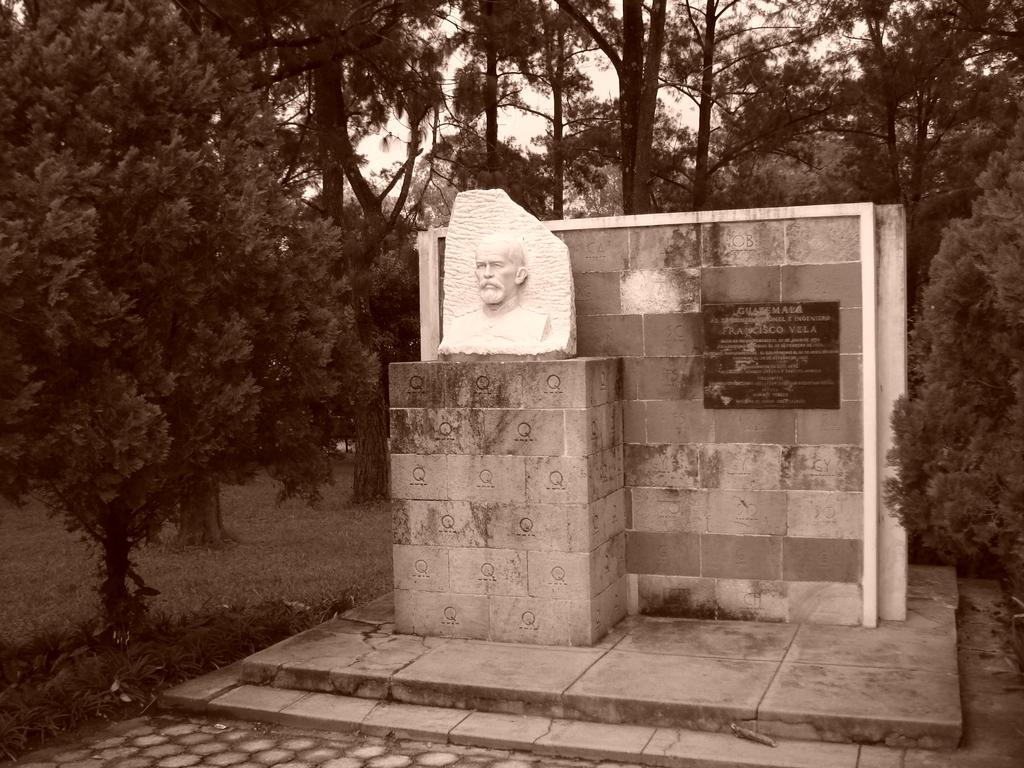Sem Máscara: (474, 242, 514, 300)
